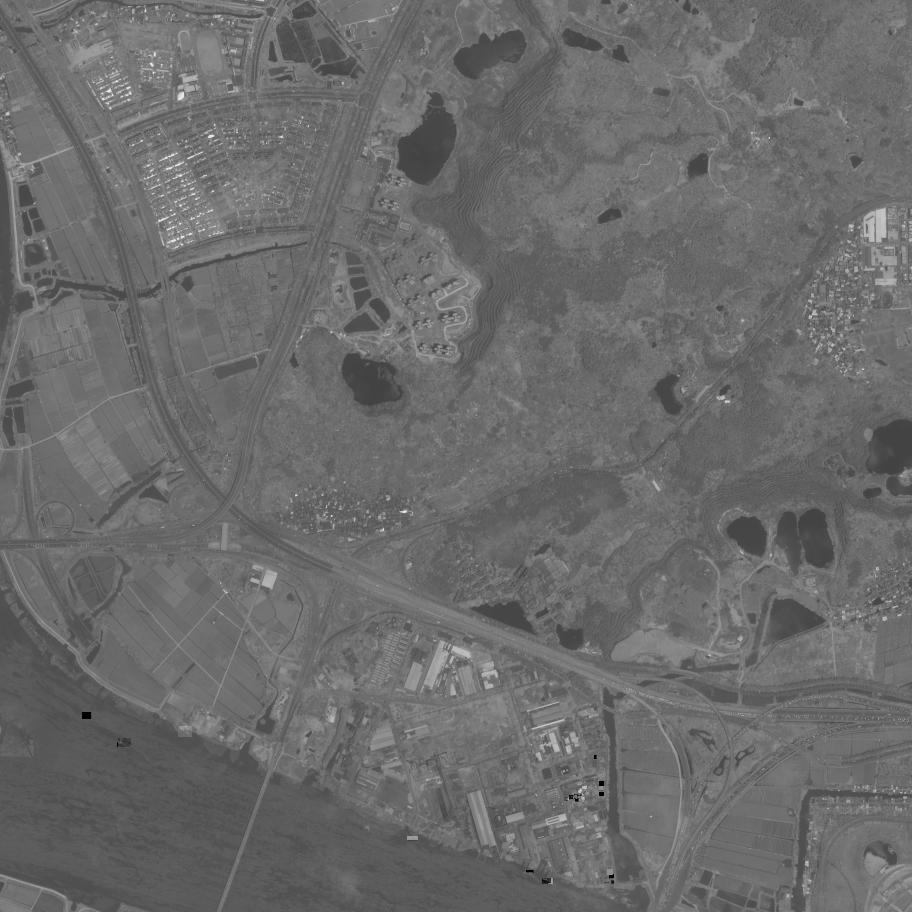ship: (179, 727, 192, 739), (118, 738, 132, 748), (83, 712, 92, 720), (117, 742, 128, 747), (543, 878, 551, 884), (524, 872, 533, 877), (548, 878, 554, 884), (407, 837, 418, 840), (365, 826, 370, 831), (526, 870, 533, 872)
storage-tank: (608, 870, 614, 876), (584, 791, 590, 797), (581, 797, 586, 802), (599, 781, 604, 786), (575, 794, 579, 799), (578, 789, 582, 793), (609, 875, 614, 878), (570, 795, 573, 799), (583, 786, 587, 789), (605, 879, 609, 882), (600, 793, 604, 796), (611, 881, 614, 884), (578, 793, 581, 796), (600, 787, 603, 790), (565, 797, 567, 801), (576, 799, 578, 801), (595, 756, 596, 759)
